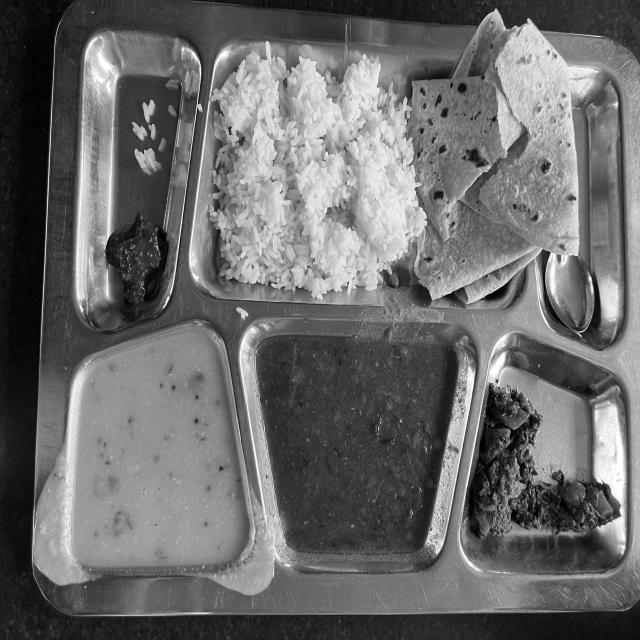Full-Plate: (57, 7, 640, 603)
